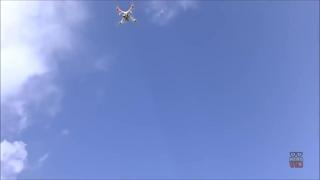UAV: (116, 5, 137, 24)
